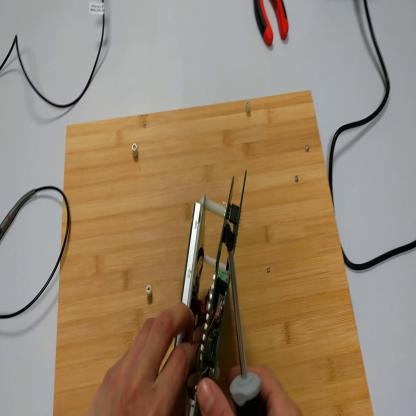hand: (89, 305, 191, 416), (196, 366, 301, 416)
low voltage board: (175, 174, 248, 415)
oscilloscope probe tip: (1, 188, 37, 241)
pliers: (253, 1, 291, 51)
screwdriver-: (227, 230, 263, 414)
working area: (54, 82, 380, 414)
